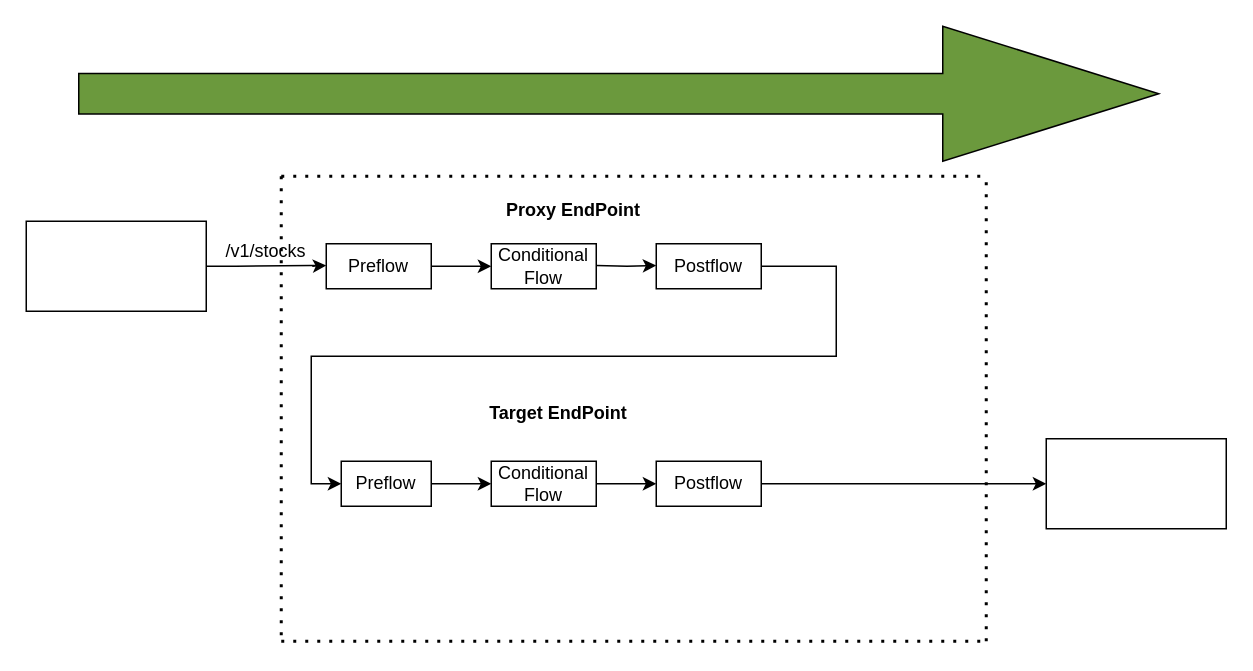
The diagram is 1253 pixels wide and 671 high, and some of its shapes have lost their labels. The centre of each missing label's shape, as x and y in pixels:
"API Clients" goes at point (115, 265).
"Backend Server" goes at point (1135, 483).
"INCOMING STREAM" goes at point (618, 93).
